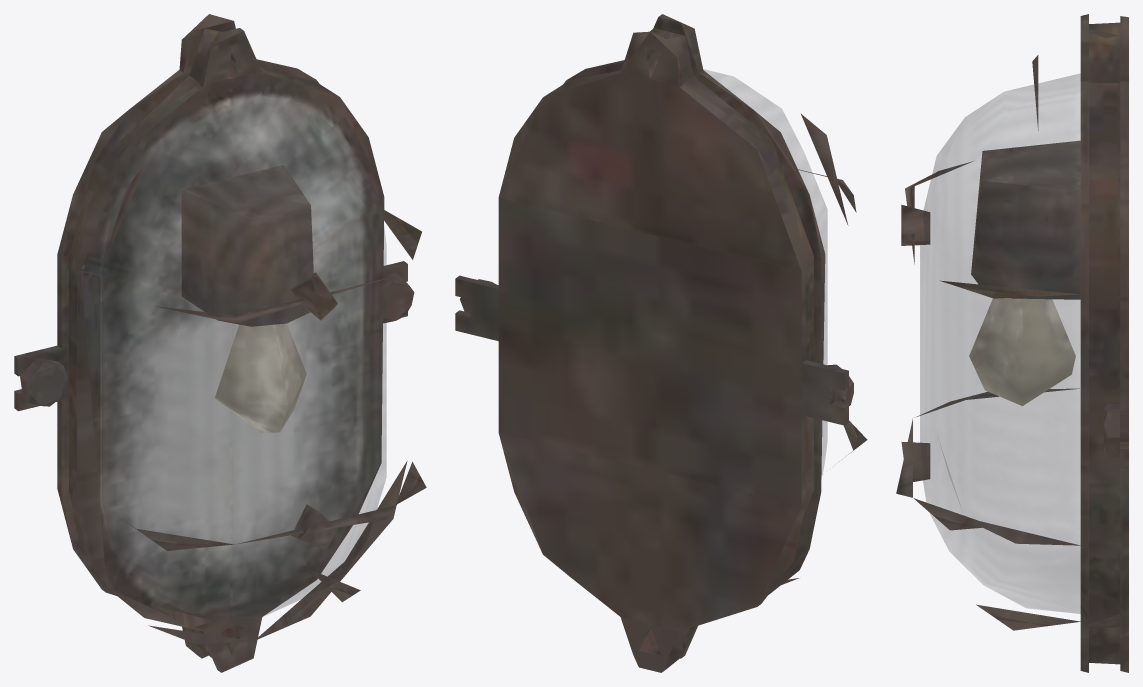
File: industrial_wall_lamp.glb
3 views of the same model, side by side, from view 1: azimuth 30°, elevation 25°; view 2: azimuth 150°, elevation 25°; view 3: azimuth 270°, elevation 25° (orthographic).
Parts seen in each view (by area): view 1: industrial_wall_lamp; view 2: industrial_wall_lamp; view 3: industrial_wall_lamp.
Part boxes in pixels (<box>): industrial_wall_lamp: <box>14,14,426,672</box>; industrial_wall_lamp: <box>455,14,867,672</box>; industrial_wall_lamp: <box>896,14,1128,672</box>.
Bounding box in the file's own units: 0.2734 × 0.4283 × 0.1389.
2 materials, 2 textured.
